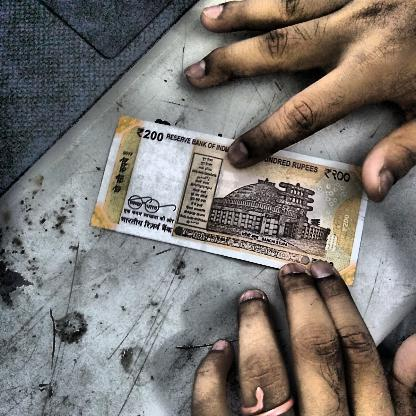Rs200: (131, 124, 167, 148)
